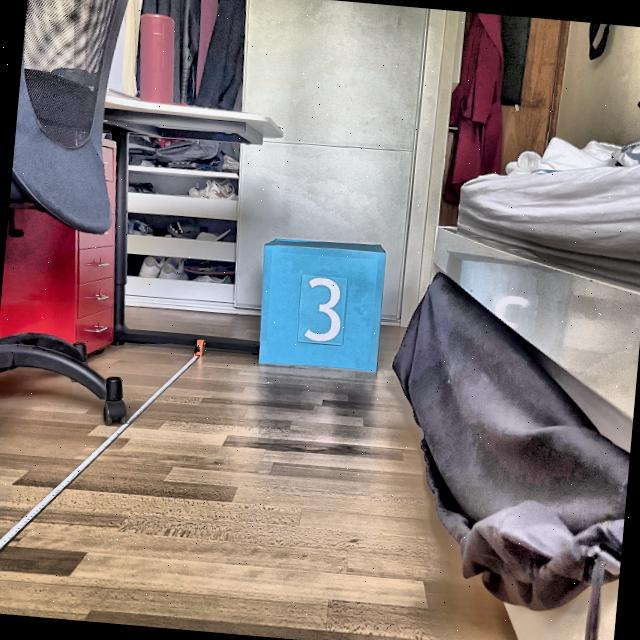blue box: (252, 232, 392, 376)
three: (299, 274, 345, 344)
